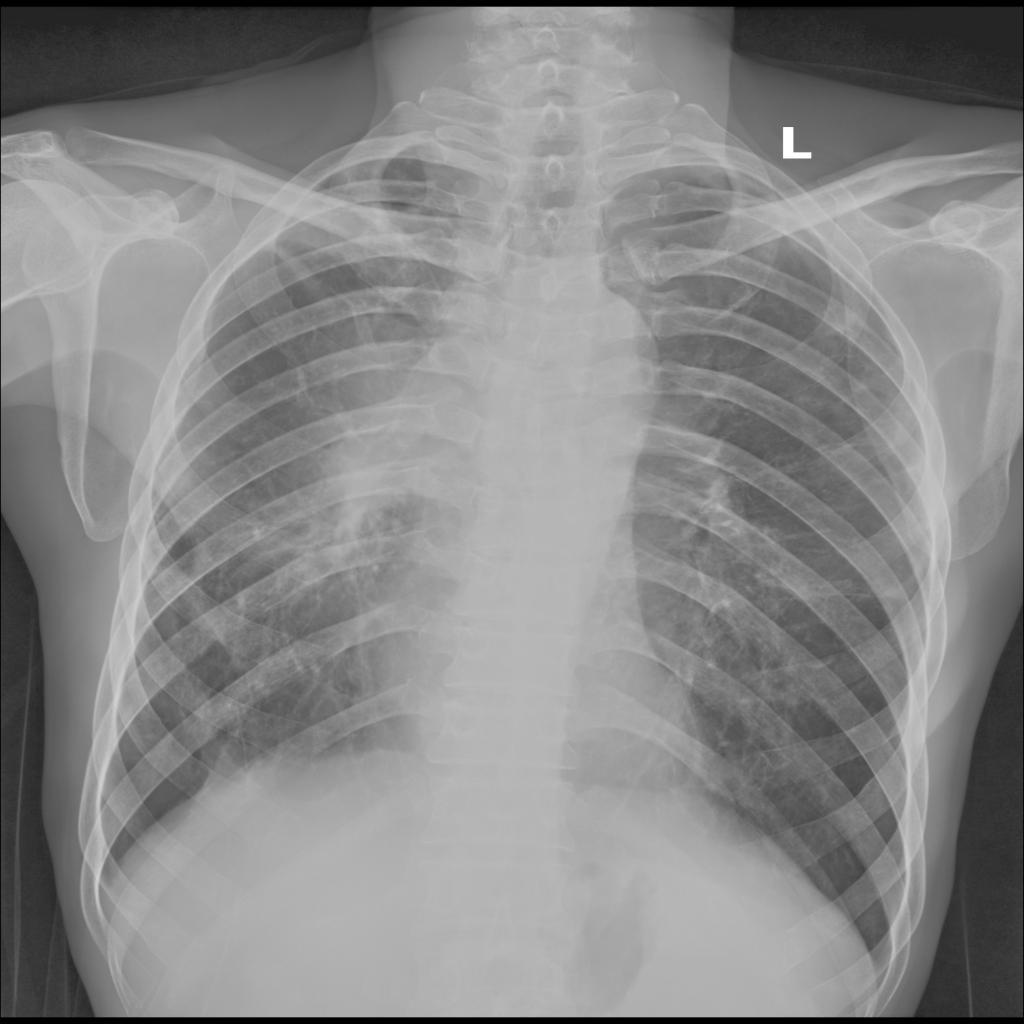Nodule: (315, 337, 491, 516)
